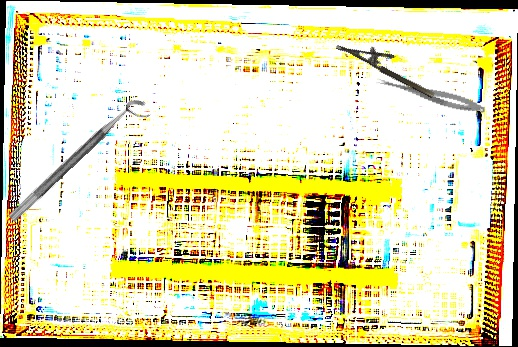Fixation Ring: (7, 94, 154, 233)
Micro Scissor: (373, 74, 488, 117)
Needle Holder: (335, 29, 442, 100)
